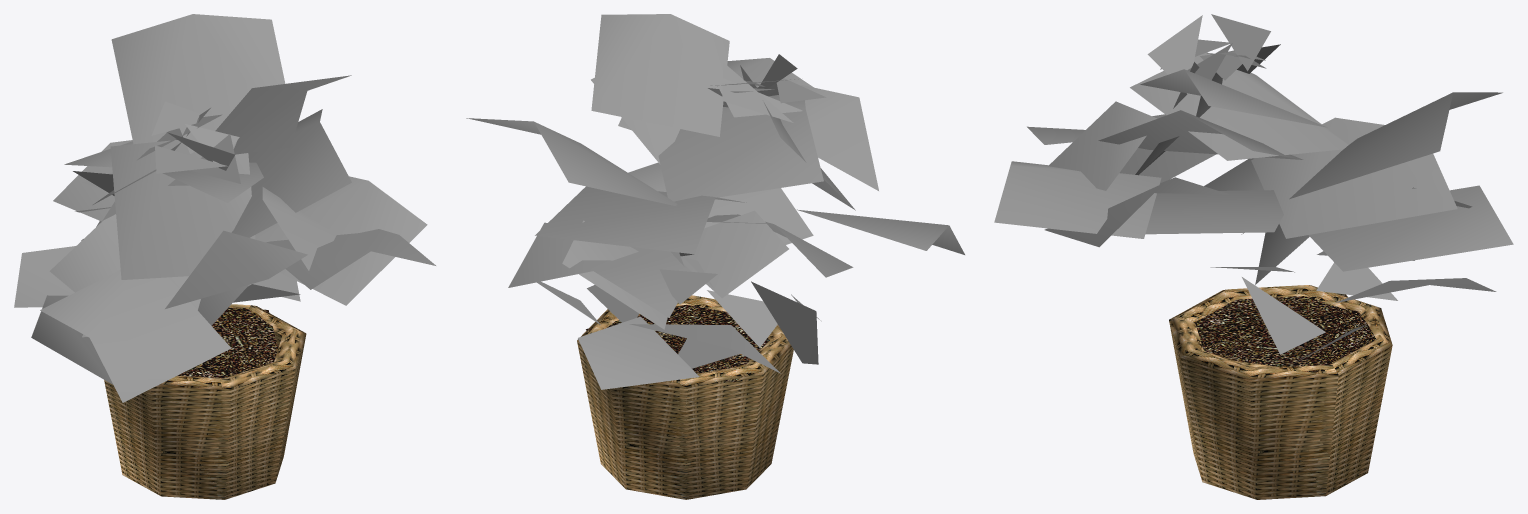
File: Fern_flower_lod2.fbx
3 renders of one model, left to right at view 1: azimuth 30°, elevation 25°; view 2: azimuth 150°, elevation 25°; view 3: azimuth 270°, elevation 25°, orthographic. The views are drawn at different scales.
Visible parts, largest first — view 1: Fern_flower_lod2; view 2: Fern_flower_lod2; view 3: Fern_flower_lod2.
Part boxes in pixels (box(x1,y1,x2,y2)): Fern_flower_lod2: box(14, 14, 435, 499); Fern_flower_lod2: box(466, 14, 964, 499); Fern_flower_lod2: box(994, 14, 1513, 499).
Bounding box in the file's own units: 22.61 × 25.29 × 27.5.
Materials: 3 (1 with a texture image).
